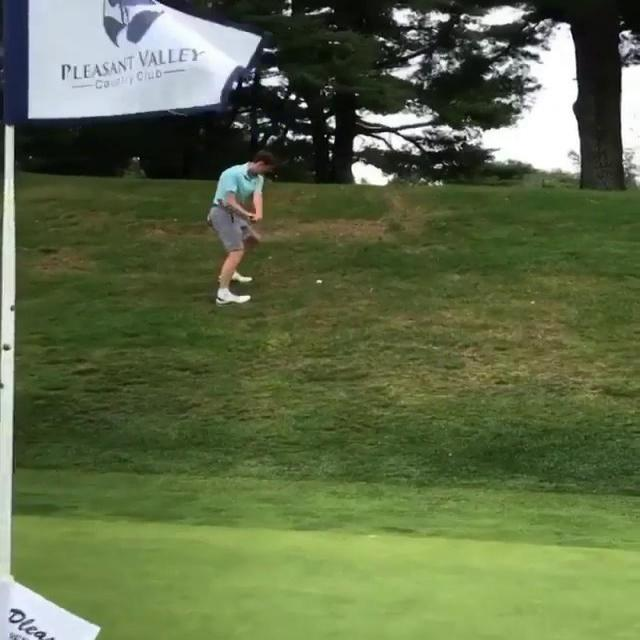ClubHead: (217, 199, 223, 207)
GolfBall: (316, 279, 324, 283)
